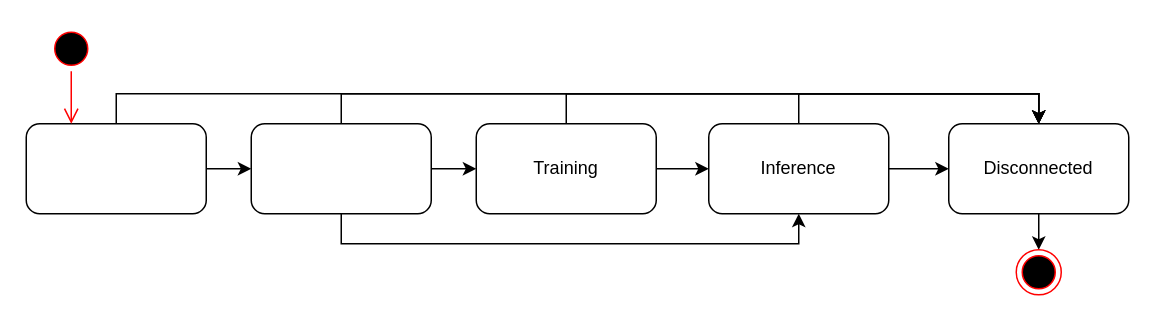
Some shapes in this 1155 by 321 pixel diagram are drawn without their labels. The centre of each missing label's shape, as x and y in pixels:
"Created" belongs at [115,168].
"Initialized" belongs at [340,168].
